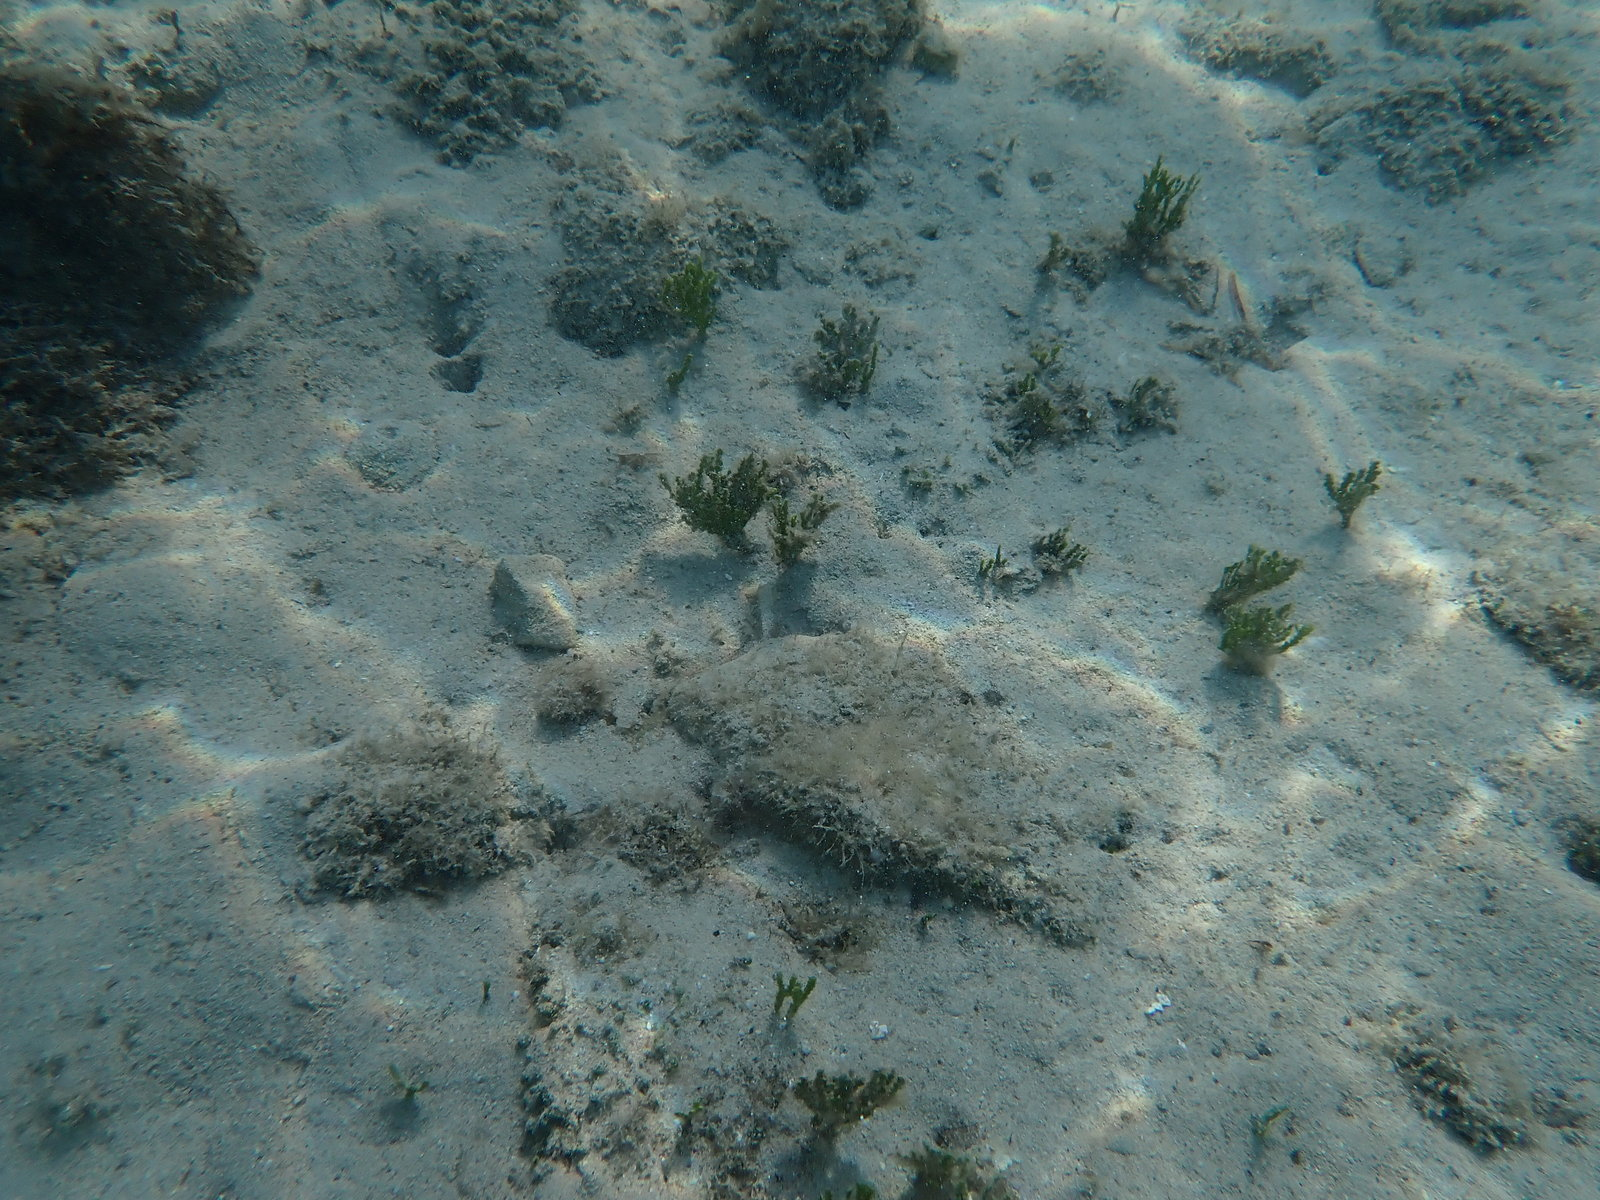halimeda: (660, 453, 780, 541), (1136, 154, 1202, 255), (792, 1069, 905, 1127), (1214, 604, 1318, 666), (1207, 545, 1306, 608), (815, 309, 881, 401), (1319, 454, 1386, 533), (666, 263, 723, 337), (769, 967, 821, 1026), (1036, 528, 1089, 574), (770, 478, 800, 551), (670, 353, 693, 402), (803, 490, 831, 526), (1029, 349, 1067, 369), (976, 555, 991, 574), (1018, 369, 1036, 384), (995, 543, 1007, 563)
